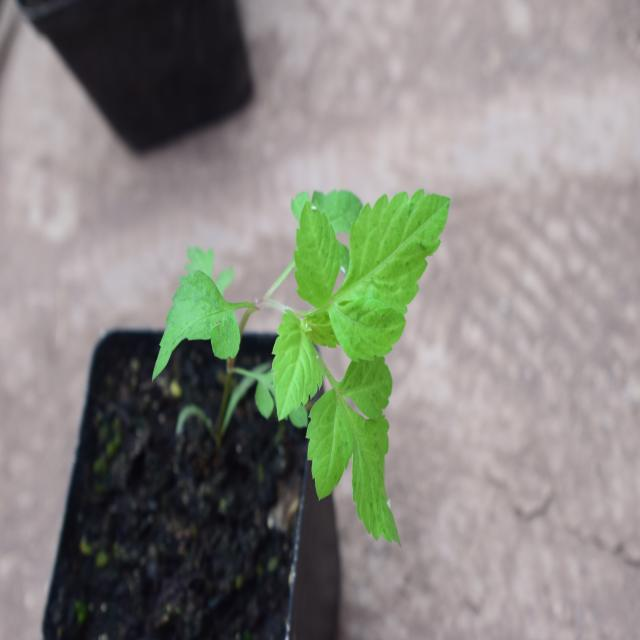Bidens pilosa: (168, 183, 452, 537)
